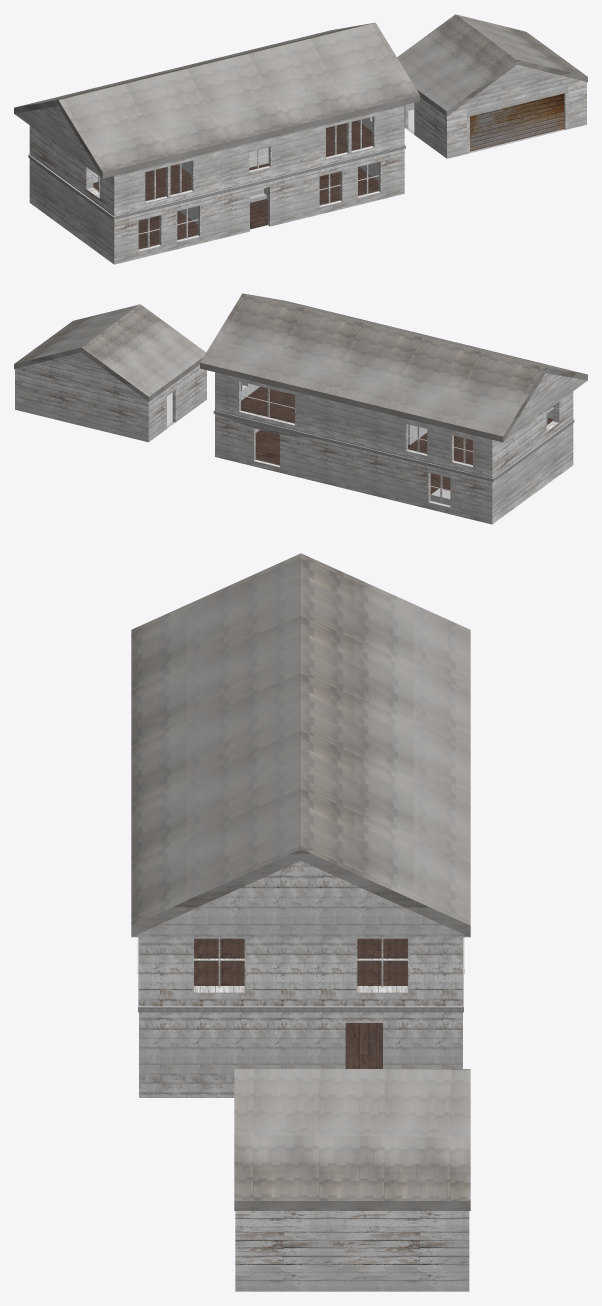
The model's file is house.fbx.
3 renders of one model, top to bottom at view 1: azimuth 30°, elevation 25°; view 2: azimuth 150°, elevation 25°; view 3: azimuth 270°, elevation 25°, orthographic. The views are drawn at different scales.
Parts seen in each view (by area): view 1: Plane, Plane.002, second-floor; view 2: Plane, Plane.002, second-floor; view 3: Plane, Plane.002, second-floor.
Part boxes in pixels (left/top/right/bottom): Plane: left=14, top=22, right=419, bottom=264; Plane.002: left=397, top=14, right=587, bottom=158; second-floor: left=93, top=120, right=372, bottom=200; Plane: left=200, top=293, right=587, bottom=524; Plane.002: left=14, top=304, right=206, bottom=442; second-floor: left=241, top=387, right=552, bottom=464; Plane: left=131, top=553, right=470, bottom=1097; Plane.002: left=234, top=1069, right=470, bottom=1291; second-floor: left=194, top=938, right=407, bottom=985.
Size of the model in its own units: 7921 by 2025 by 2378.
